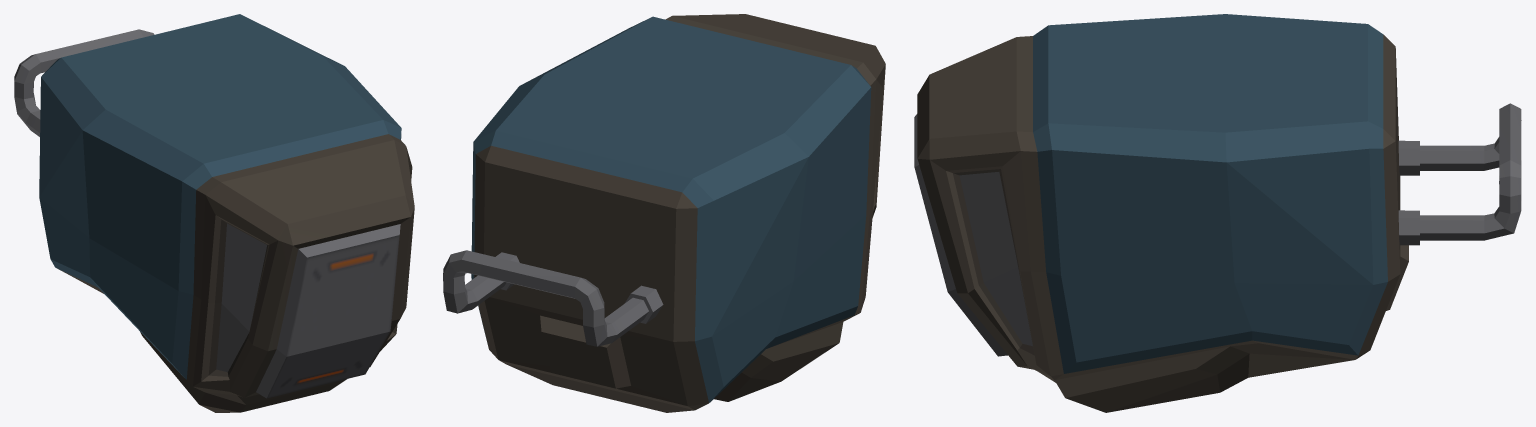
The model's file is SM_Mech_Hips_01_Armor_01.fbx.
3 views of the same model, side by side, from view 1: azimuth 30°, elevation 25°; view 2: azimuth 150°, elevation 25°; view 3: azimuth 270°, elevation 25° (orthographic). The views are drawn at different scales.
Parts seen in each view (by area): view 1: SM_Mech_Hips_01_Armor_01; view 2: SM_Mech_Hips_01_Armor_01; view 3: SM_Mech_Hips_01_Armor_01.
Part boxes in pixels (x1,y1,x2,y2): SM_Mech_Hips_01_Armor_01: [14, 14, 414, 412]; SM_Mech_Hips_01_Armor_01: [443, 14, 885, 412]; SM_Mech_Hips_01_Armor_01: [914, 14, 1521, 412].
Bounding box in the file's own units: 72.74 × 73.8 × 130.
